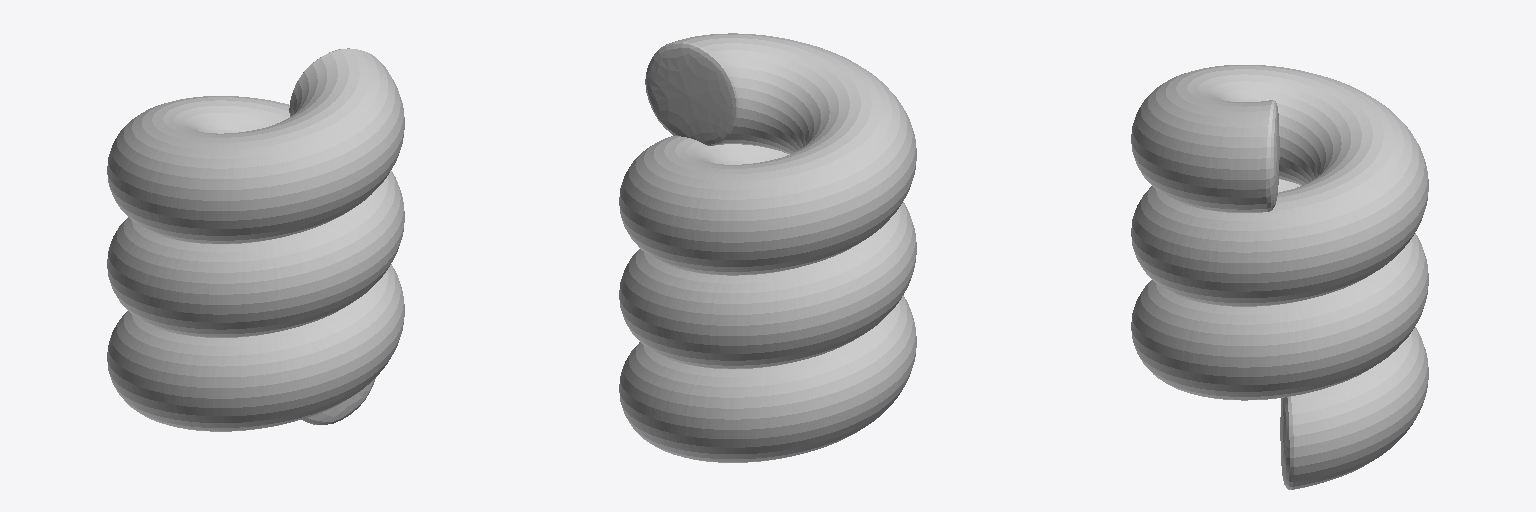
Rendered from helix_20.0.obj.
3 views of the same model, side by side, from view 1: azimuth 30°, elevation 25°; view 2: azimuth 150°, elevation 25°; view 3: azimuth 270°, elevation 25° (orthographic).
Parts seen in each view (by area): view 1: helix:pHelix1; view 2: helix:pHelix1; view 3: helix:pHelix1.
Part boxes in pixels (x1,y1,x2,y2): helix:pHelix1: (107, 48, 404, 431); helix:pHelix1: (619, 33, 916, 462); helix:pHelix1: (1131, 65, 1428, 489).
Bounding box in the file's own units: 1.92 × 2.71 × 1.92.